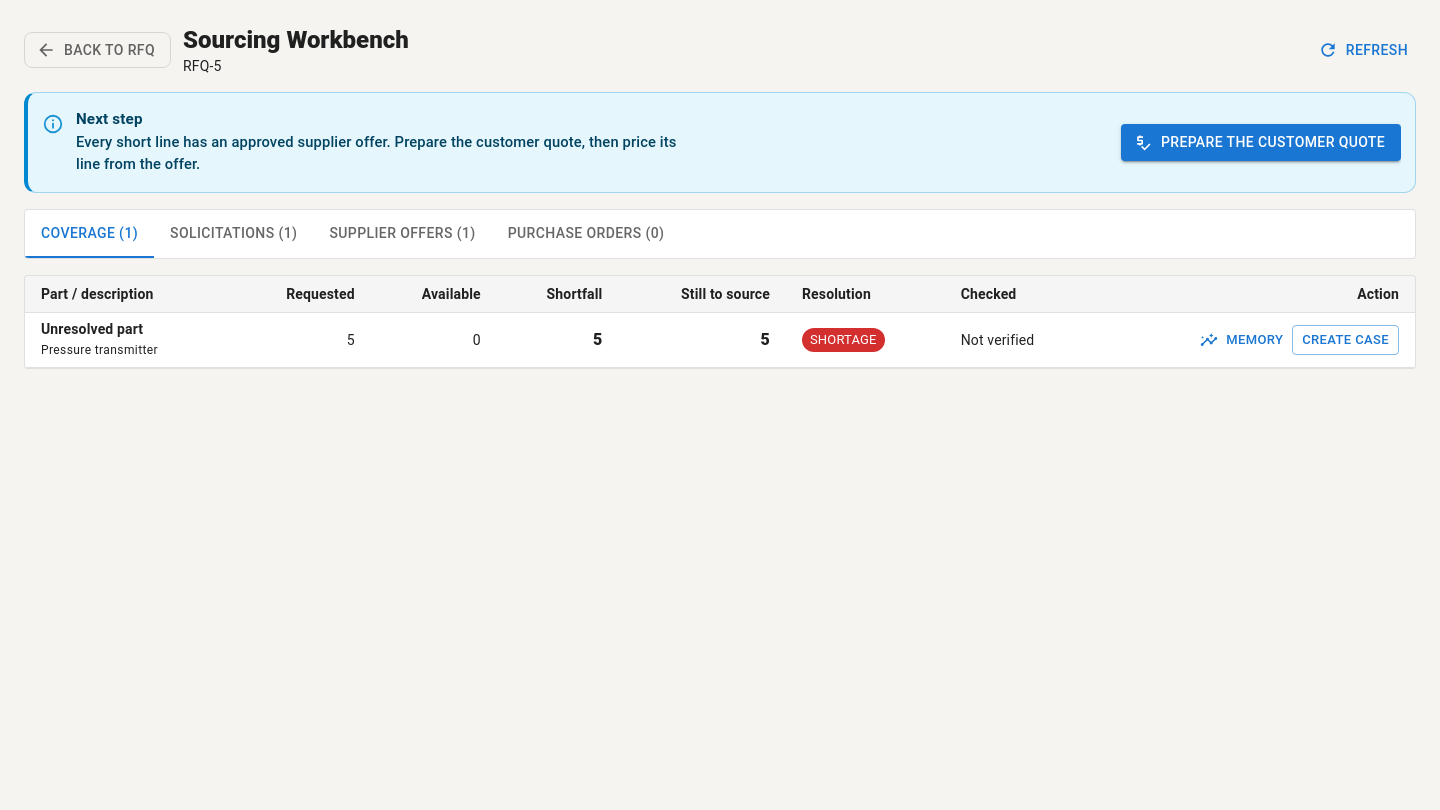
Test: SourcingWorkbenchPage — disabled controls print their reason › Price customer quote stays visible, disabled, and points at Prepare Quote Draft on the RFQ
Click the tab "Supplier offers (1)" at (402, 234), box [313,210,492,258]
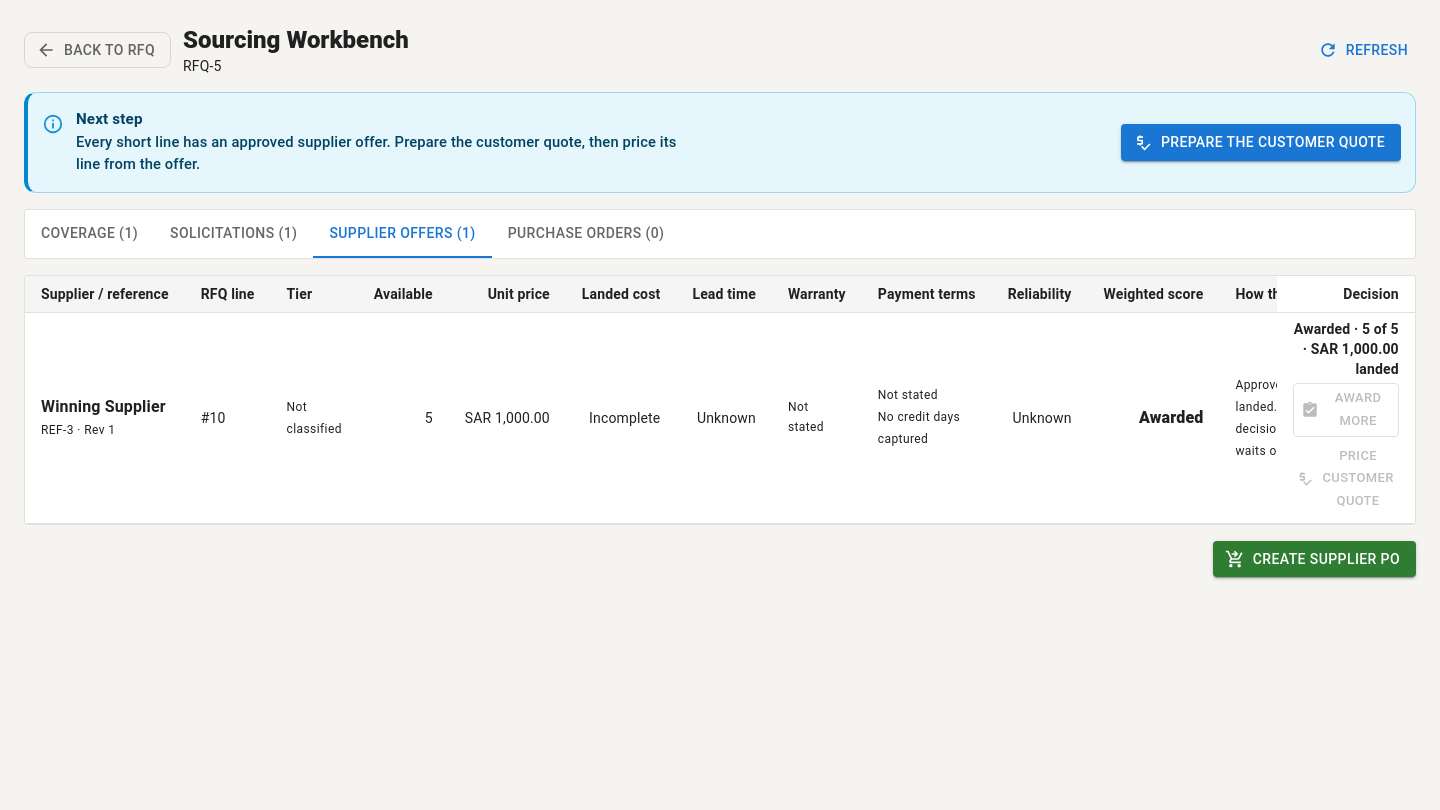
expect the button "Price customer quote" is disabled: met
Hover over the element showing "Price customer quote" at (1346, 479), box [1294,441,1399,517]
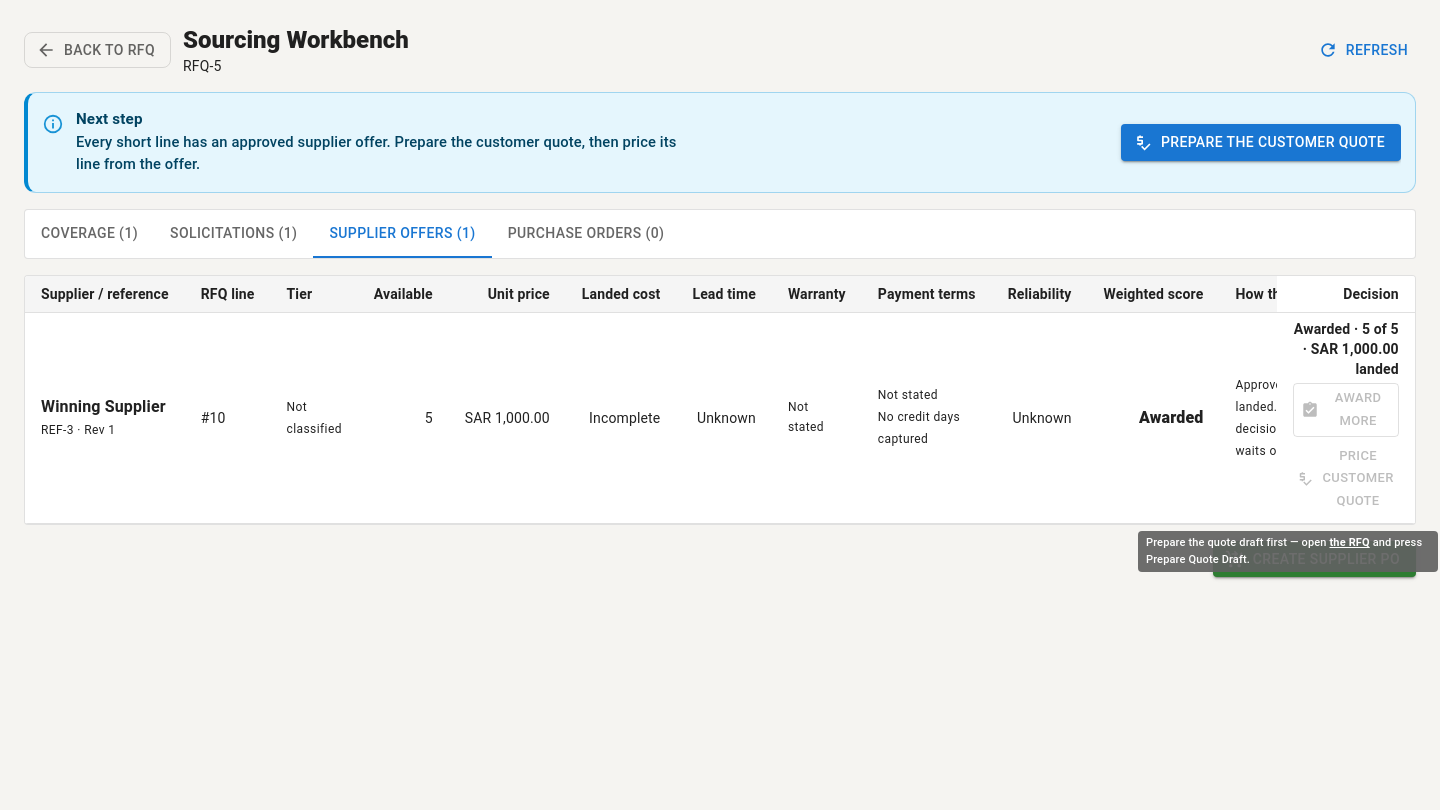
expect the text "Prepare the quote draft first" is shown: met, box [1146,536,1327,549]
